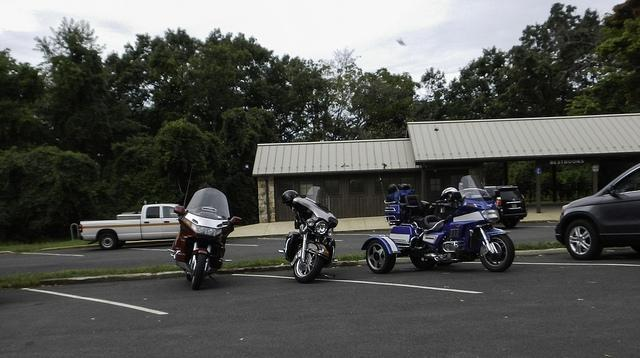car: (555, 161, 640, 262), (80, 204, 180, 247), (484, 186, 527, 229)
motorcycle: (411, 178, 518, 272), (167, 188, 242, 290), (284, 186, 339, 282)
truck: (80, 204, 182, 250)
